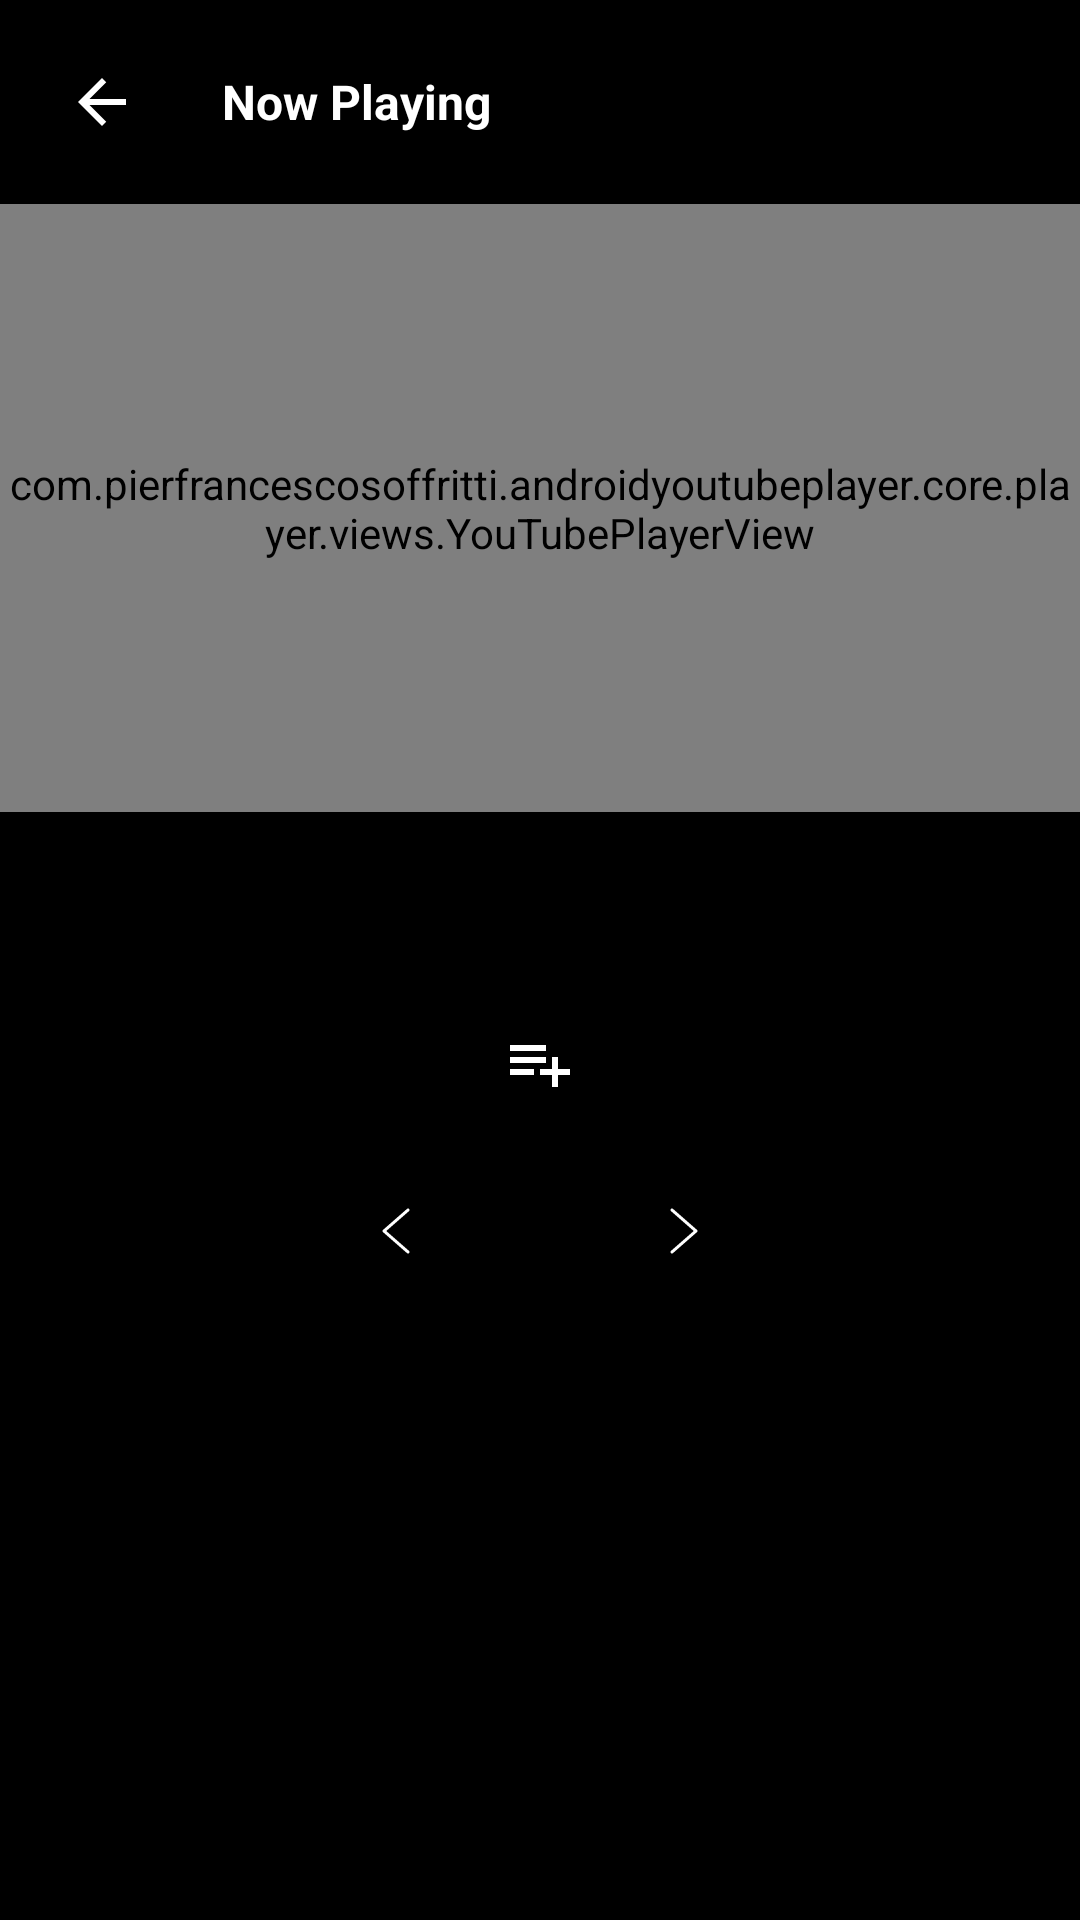

Screen size 1080×1920. Icon name, then its center in pixels as point (x, y):
Add to playlist: point (540, 1066)
arrow back: point (102, 102)
Next: point (684, 1231)
